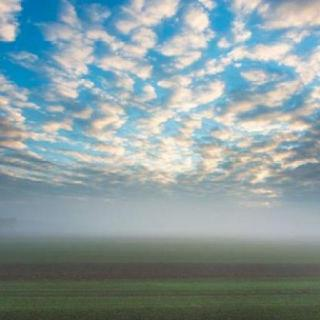Altocumulus: (0, 0, 320, 206)
